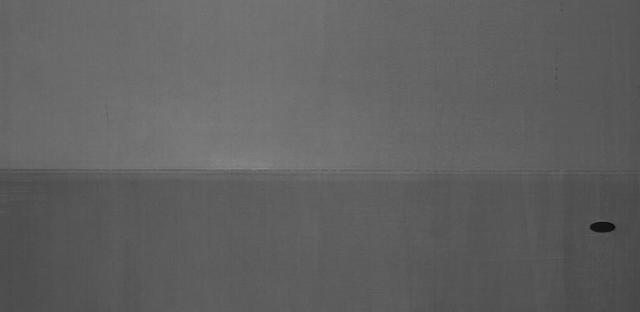punching_hole: (582, 216, 622, 239)
welding_line: (5, 157, 640, 187)
